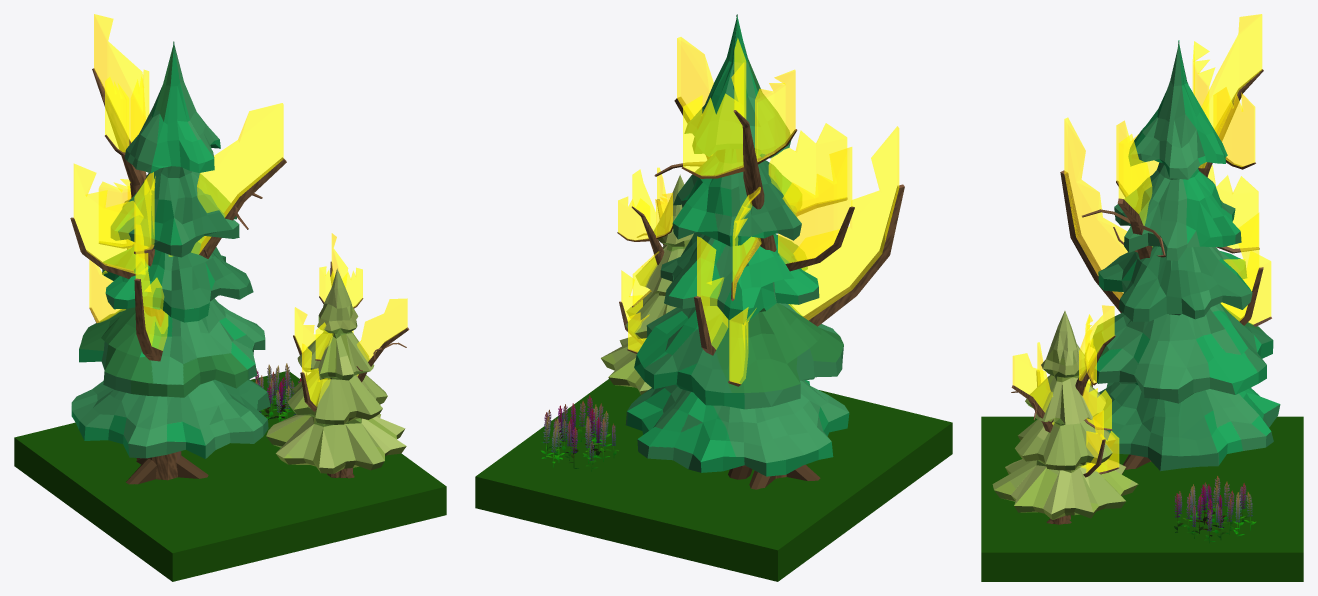
Rendered from tile1.glb.
3 renders of one model, left to right at view 1: azimuth 30°, elevation 25°; view 2: azimuth 150°, elevation 25°; view 3: azimuth 270°, elevation 25°, orthographic. The views are drawn at different scales.
Visible parts, largest first — view 1: greenTree, ground, fire, burntTree, flower; view 2: greenTree, ground, fire, burntTree, flower; view 3: greenTree, ground, fire, burntTree, flower.
Boxes of the visible parts, x1,y1,x2,y2 form: greenTree: (71,41,406,477); ground: (14,371,446,581); fire: (73,14,407,406); burntTree: (70,68,409,484); flower: (255,363,306,421); greenTree: (601,14,849,479); ground: (475,379,952,581); fire: (618,37,899,383); burntTree: (617,97,904,489); flower: (541,395,618,471); greenTree: (992,40,1280,520); ground: (981,416,1303,581); fire: (1012,14,1271,472); burntTree: (1011,69,1271,524); flower: (1174,476,1256,543).
Bounding box in the file's own units: 0.0256 × 0.0396 × 0.025.
7 materials, 4 textured.
